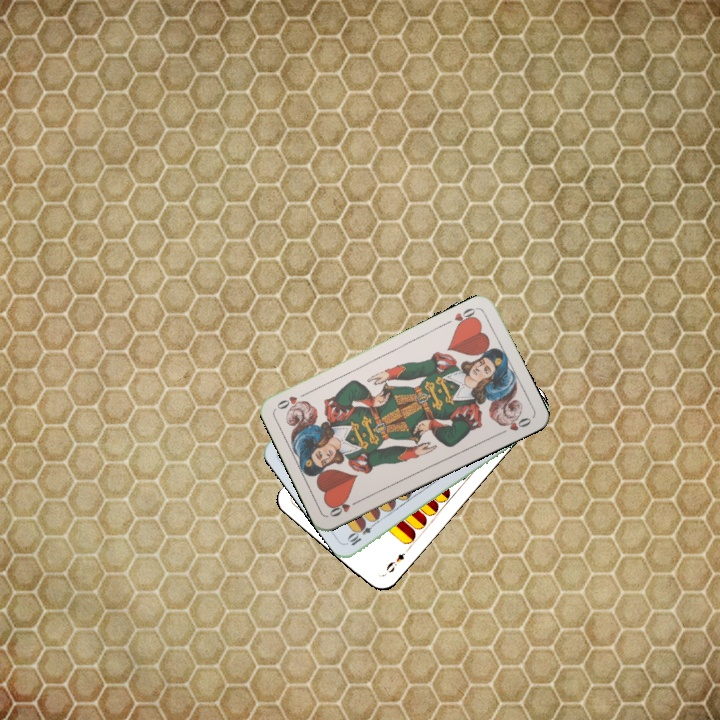E10: (344, 516, 380, 548)
E9: (380, 545, 411, 578)
HO: (325, 495, 363, 519), (450, 304, 480, 331)
